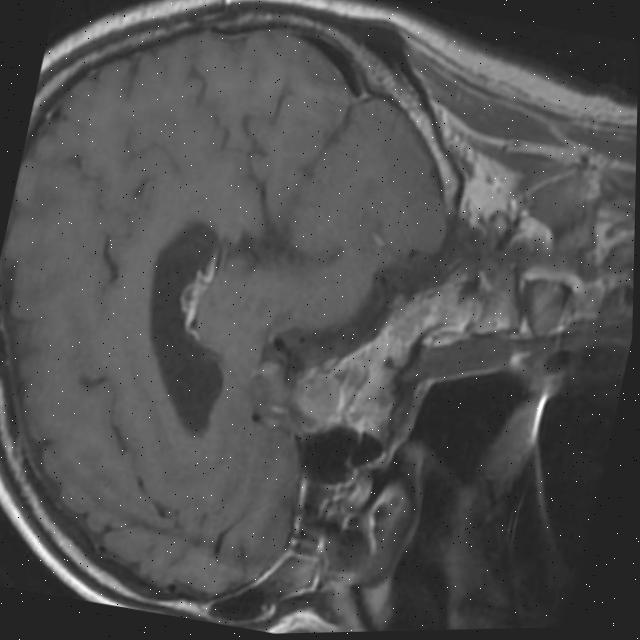Pituitary: (287, 359, 345, 432)
